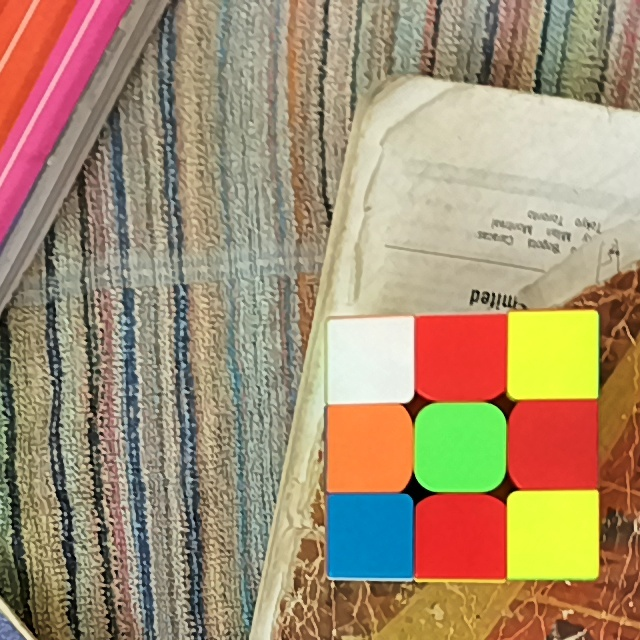tile: (514, 316, 594, 393), (514, 496, 594, 573), (518, 408, 594, 484), (331, 323, 408, 397), (333, 500, 409, 574), (423, 319, 500, 391), (423, 503, 501, 574), (333, 409, 405, 483), (423, 413, 499, 480)
